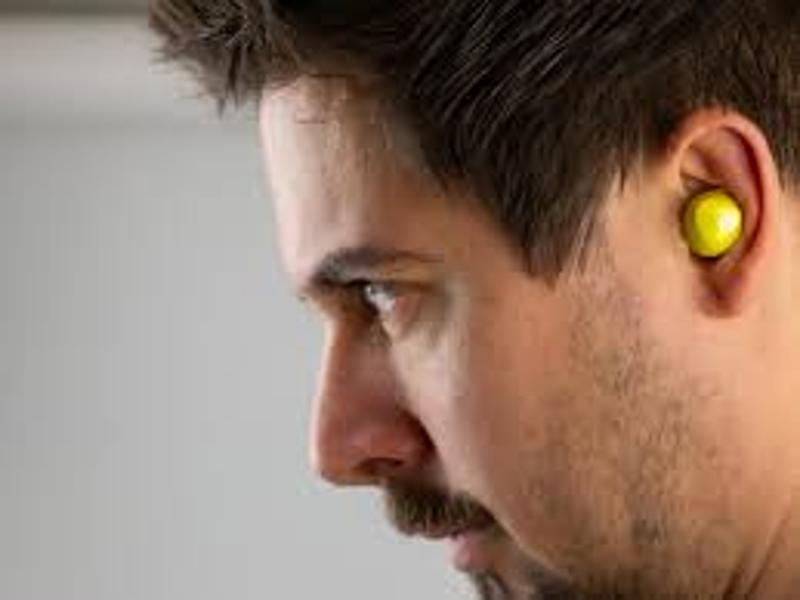headphone: (676, 185, 748, 260)
